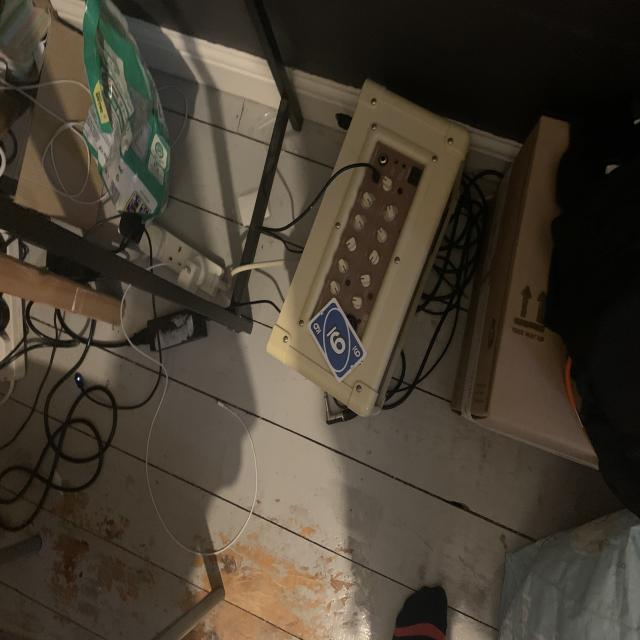lblue-9: (312, 322, 323, 335)
